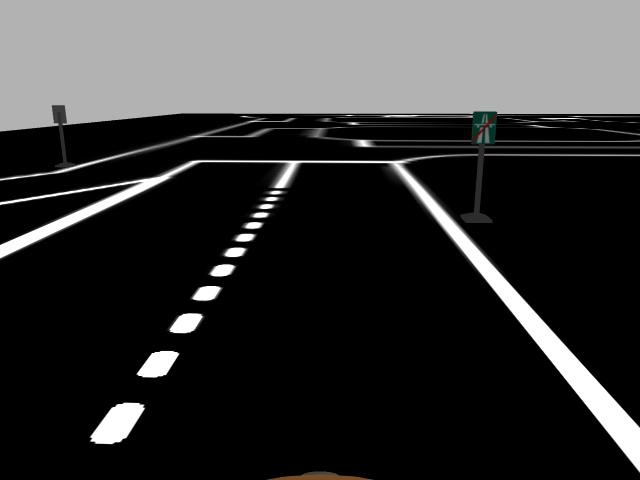leave_highway: (468, 110, 498, 145)
